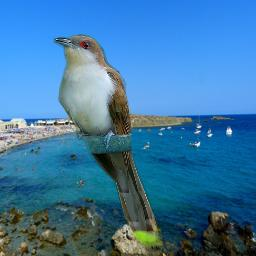Cuckoo: (53, 34, 163, 247)
